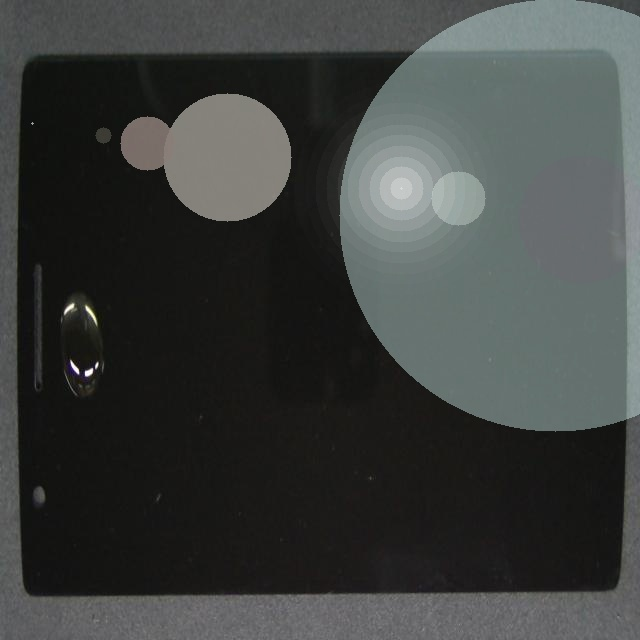oil: (68, 205, 145, 498)
